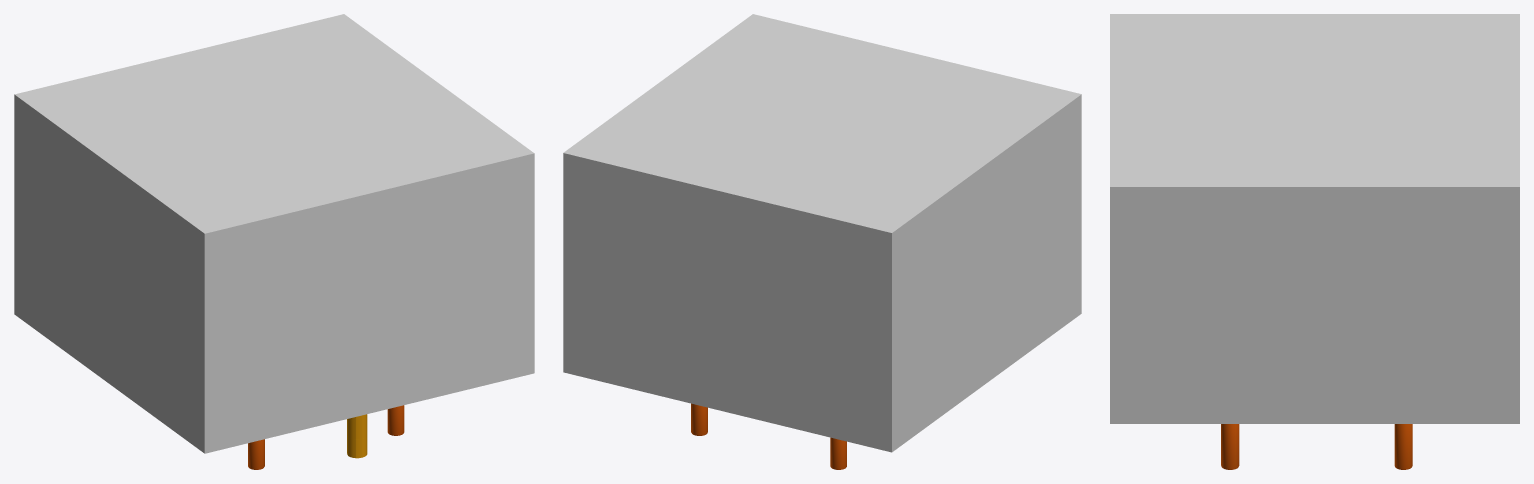
The model's file is WarmupBallDrops-v3.2.glb.
The picture shows the model from 3 angles, left to right: view 1: azimuth 30°, elevation 25°; view 2: azimuth 150°, elevation 25°; view 3: azimuth 270°, elevation 25°; orthographic projection. The views are drawn at different scales.
Parts seen in each view (by area): view 1: WorldBox; view 2: WorldBox; view 3: WorldBox, Pillar-40-Orange (×2).
Boxes of the visible parts, bbox=[...] form: WorldBox: bbox=[14, 14, 534, 453]; WorldBox: bbox=[563, 14, 1081, 452]; WorldBox: bbox=[1110, 14, 1519, 423]; Pillar-40-Orange (×2): bbox=[1221, 424, 1412, 469].
Size of what is drawn, in the model's own units: 189 by 164 by 189.
Materials: 12 (10 with a texture image).
